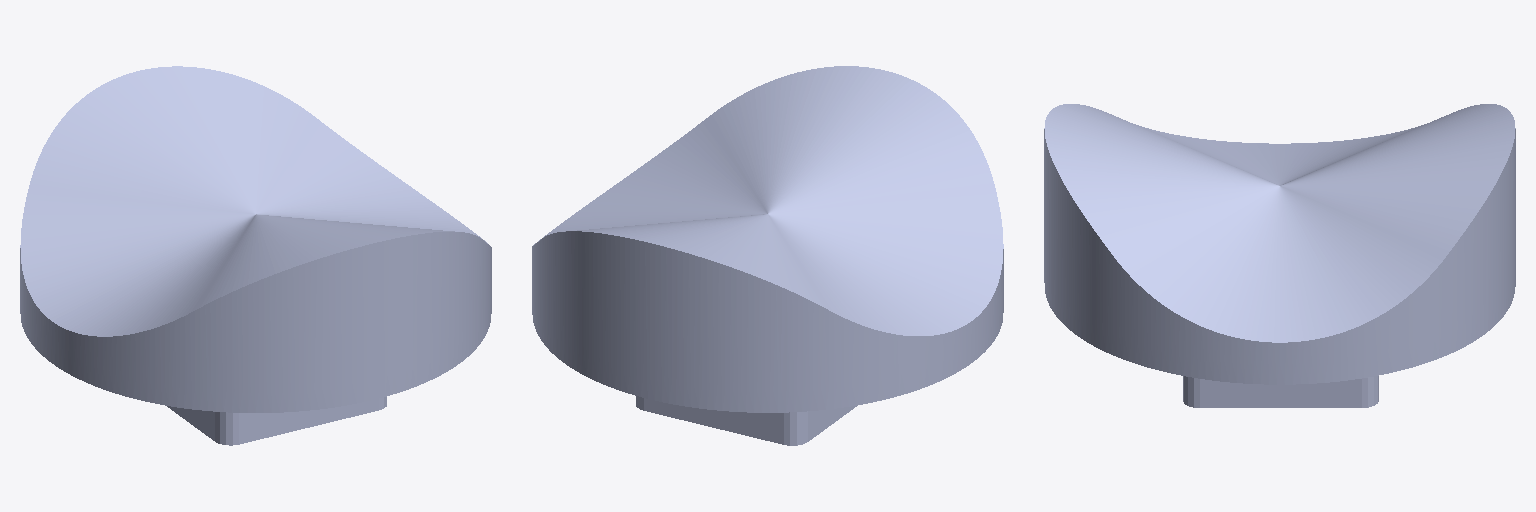
URDF robot description (saddle):
<?xml version="1.0" encoding="utf-8"?>
<!-- This URDF was automatically created by SolidWorks to URDF Exporter! Originally created by [author] ([email redacted])
     Commit Version: 1.6.0-1-g15f4949  Build Version: 1.6.7594.29634
     For more information, please see http://wiki.ros.org/sw_urdf_exporter -->
<robot
  name="saddle">
  <link
    name="base_link">
    <inertial>
      <origin
        xyz="0.0 0.0 0.0"
        rpy="0 0 0" />
      <mass
        value="0.120185406907076" />
      <inertia
        ixx="0.000192679813382672"
        ixy="-2.0885133922963E-13"
        ixz="3.10573113658286E-11"
        iyy="0.000300740310051447"
        iyz="3.48650281952896E-15"
        izz="0.00014184173084889" />
    </inertial>
    <visual>
      <origin
        xyz="0.0 0.0 0.0"
        rpy="0 0 0" />
      <geometry>
        <mesh
          filename="package://saddle/meshes/saddle.obj" scale="1 1 1"/>
      </geometry>
      <material
        name="">
        <color
          rgba="0.792156862745098 0.819607843137255 0.933333333333333 1" />
      </material>
    </visual>
    <collision>
      <origin
        xyz="0 0 0"
        rpy="0 0 0" />
      <geometry>
        <mesh
          filename="package://saddle/meshes/saddle.obj" scale="1 1 1" />
      </geometry>
    </collision>
  </link>
</robot>

--- What the picture shows (computed from the rendered views, not written in the file) ---
3 views of the same robot in one strip: view 1: azimuth 30°, elevation 25°; view 2: azimuth 150°, elevation 25°; view 3: azimuth 270°, elevation 25° (orthographic).
Model saddle with 1 links and 0 joints (none), rooted at base_link, posed every joint at zero.
Visible links, largest first — view 1: base_link; view 2: base_link; view 3: base_link.
Link boxes in pixels (x1=…): base_link: x1=20, y1=66, x2=491, y2=445; base_link: x1=532, y1=66, x2=1003, y2=445; base_link: x1=1044, y1=104, x2=1515, y2=407.
Size in the robot's own frame: 0.1344 by 0.1344 by 0.0743 metres.
Meshes: 1 distinct files referenced, 1 mesh visuals loaded (1 OBJ).